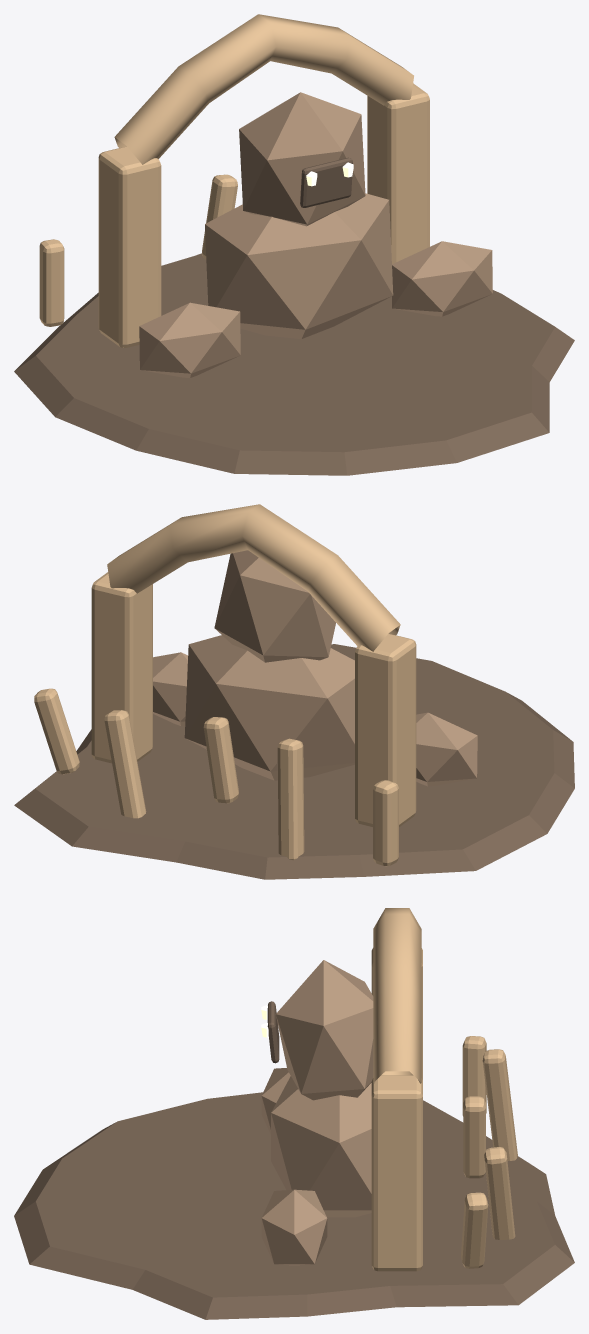
Rendered from whispering-desert-lod1.glb.
3 renders of one model, top to bottom at view 1: azimuth 30°, elevation 25°; view 2: azimuth 150°, elevation 25°; view 3: azimuth 270°, elevation 25°, orthographic. The views are drawn at different scales.
Visible parts, largest first — view 1: STONE_TERRAIN_SOCKET, STONE_TITAN_TORSO, STONE_TITAN_GATE_ARCH, STONE_GATE_PILLAR_-1, STONE_TITAN_HEAD, STONE_GATE_PILLAR_1, STONE_BURIED_HAND_-1, STONE_BURIED_HAND_1, STONE_BROKEN_COLUMN_0, DARK_TITAN_FACE, STONE_BROKEN_COLUMN_2; view 2: STONE_TERRAIN_SOCKET, STONE_TITAN_TORSO, STONE_TITAN_GATE_ARCH, STONE_GATE_PILLAR_-1, STONE_GATE_PILLAR_1, STONE_TITAN_HEAD, STONE_BURIED_HAND_-1, STONE_BROKEN_COLUMN_1, STONE_BROKEN_COLUMN_3, STONE_BURIED_HAND_1, STONE_BROKEN_COLUMN_2, STONE_BROKEN_COLUMN_4 (+1 smaller); view 3: STONE_TERRAIN_SOCKET, STONE_TITAN_TORSO, STONE_TITAN_HEAD, STONE_GATE_PILLAR_1, STONE_TITAN_GATE_ARCH, STONE_BURIED_HAND_1, STONE_BROKEN_COLUMN_1, STONE_BROKEN_COLUMN_3, STONE_BROKEN_COLUMN_2, STONE_BROKEN_COLUMN_4, STONE_BROKEN_COLUMN_0, STONE_BURIED_HAND_-1 (+1 smaller).
Part boxes in pixels (x1,y1,x2,y2): STONE_TERRAIN_SOCKET: (14, 253, 574, 475); STONE_TITAN_TORSO: (205, 193, 393, 339); STONE_TITAN_GATE_ARCH: (114, 14, 413, 164); STONE_GATE_PILLAR_-1: (98, 146, 161, 347); STONE_TITAN_HEAD: (239, 92, 365, 226); STONE_GATE_PILLAR_1: (367, 83, 429, 263); STONE_BURIED_HAND_-1: (139, 302, 240, 377); STONE_BURIED_HAND_1: (392, 241, 492, 316); STONE_BROKEN_COLUMN_0: (39, 239, 64, 326); DARK_TITAN_FACE: (300, 157, 352, 207); STONE_BROKEN_COLUMN_2: (202, 174, 237, 259); STONE_TERRAIN_SOCKET: (14, 644, 574, 879); STONE_TITAN_TORSO: (184, 635, 354, 780); STONE_TITAN_GATE_ARCH: (107, 504, 400, 651); STONE_GATE_PILLAR_-1: (355, 634, 416, 826); STONE_GATE_PILLAR_1: (91, 572, 152, 763); STONE_TITAN_HEAD: (214, 550, 335, 662); STONE_BURIED_HAND_-1: (416, 712, 477, 786); STONE_BROKEN_COLUMN_1: (277, 738, 304, 860); STONE_BROKEN_COLUMN_3: (104, 710, 146, 818); STONE_BURIED_HAND_1: (153, 652, 187, 726); STONE_BROKEN_COLUMN_2: (203, 717, 238, 803); STONE_BROKEN_COLUMN_4: (34, 688, 79, 774); STONE_TERRAIN_SOCKET: (14, 1092, 574, 1319); STONE_TITAN_TORSO: (271, 1076, 371, 1217); STONE_TITAN_HEAD: (275, 960, 373, 1100); STONE_GATE_PILLAR_1: (371, 1075, 422, 1271); STONE_TITAN_GATE_ARCH: (373, 908, 421, 1083); STONE_BURIED_HAND_1: (261, 1189, 327, 1265); STONE_BROKEN_COLUMN_1: (482, 1049, 517, 1160); STONE_BROKEN_COLUMN_3: (484, 1147, 515, 1239); STONE_BROKEN_COLUMN_2: (463, 1096, 485, 1178); STONE_BROKEN_COLUMN_4: (461, 1192, 488, 1268); STONE_BROKEN_COLUMN_0: (462, 1036, 486, 1116); STONE_BURIED_HAND_-1: (261, 1068, 290, 1134).
Bounding box in the file's own units: 1.67 × 1.05 × 1.74.
